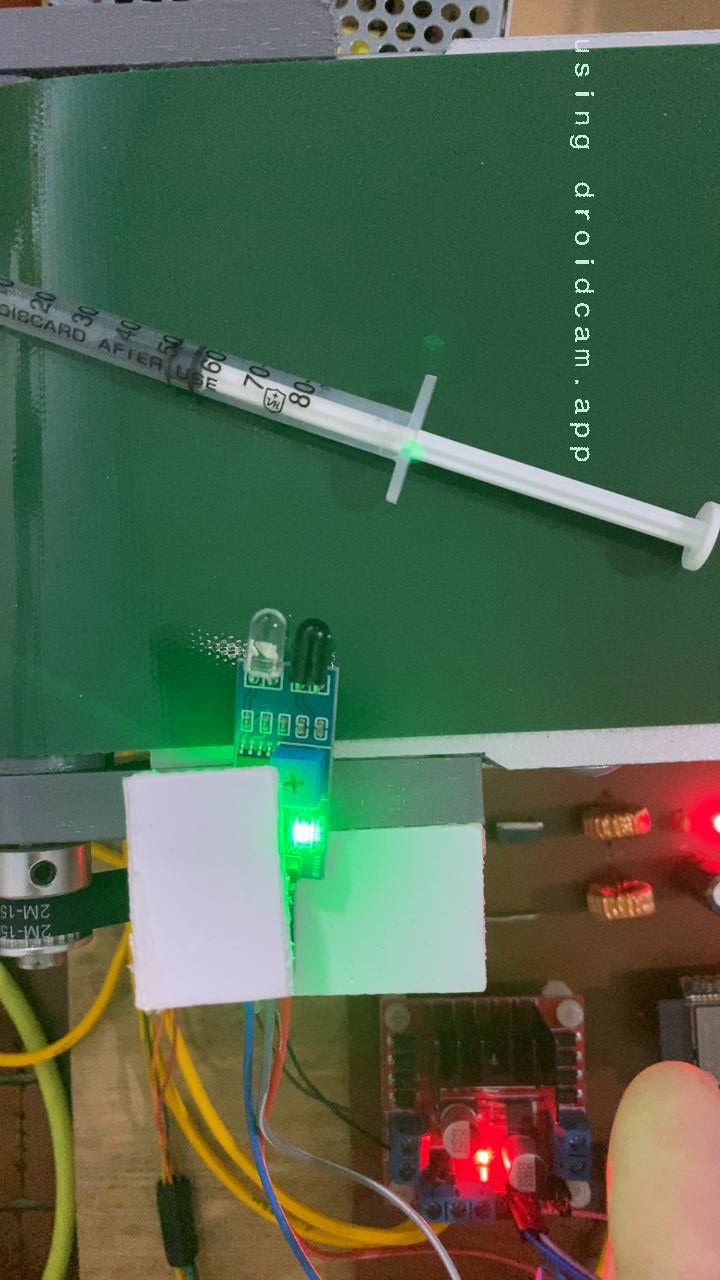syringe: (169, 345, 720, 578)
